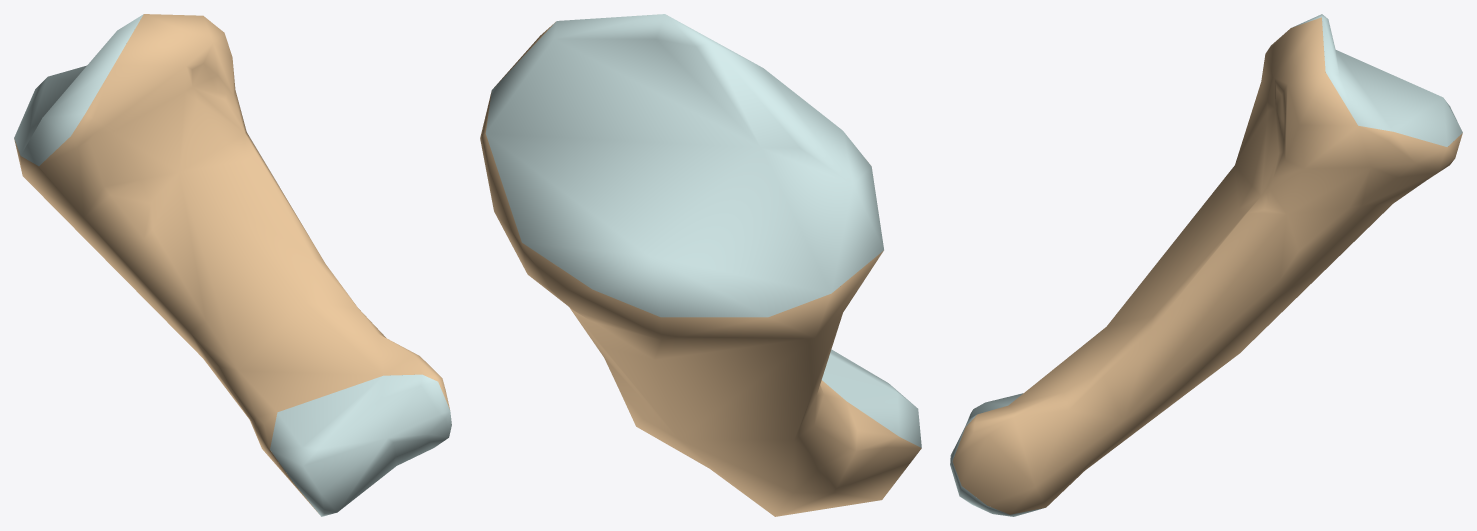
Rendered from Middle_phalanx_of_2d_finger.l_Generated_Mesh_From_X3D.718.glb.
The picture shows the model from 3 angles, left to right: view 1: azimuth 30°, elevation 25°; view 2: azimuth 150°, elevation 25°; view 3: azimuth 270°, elevation 25°; orthographic projection. The views are drawn at different scales.
Parts seen in each view (by area): view 1: Middle_phalanx_of_2d_finger.l_Generated_Mesh_From_X3D.718; view 2: Middle_phalanx_of_2d_finger.l_Generated_Mesh_From_X3D.718; view 3: Middle_phalanx_of_2d_finger.l_Generated_Mesh_From_X3D.718.
Part boxes in pixels (left/top/right/bottom): Middle_phalanx_of_2d_finger.l_Generated_Mesh_From_X3D.718: left=14, top=14, right=451, bottom=516; Middle_phalanx_of_2d_finger.l_Generated_Mesh_From_X3D.718: left=480, top=14, right=921, bottom=516; Middle_phalanx_of_2d_finger.l_Generated_Mesh_From_X3D.718: left=950, top=14, right=1462, bottom=516.
Size of the model in its own units: 0.0151 by 0.0213 by 0.0216.
